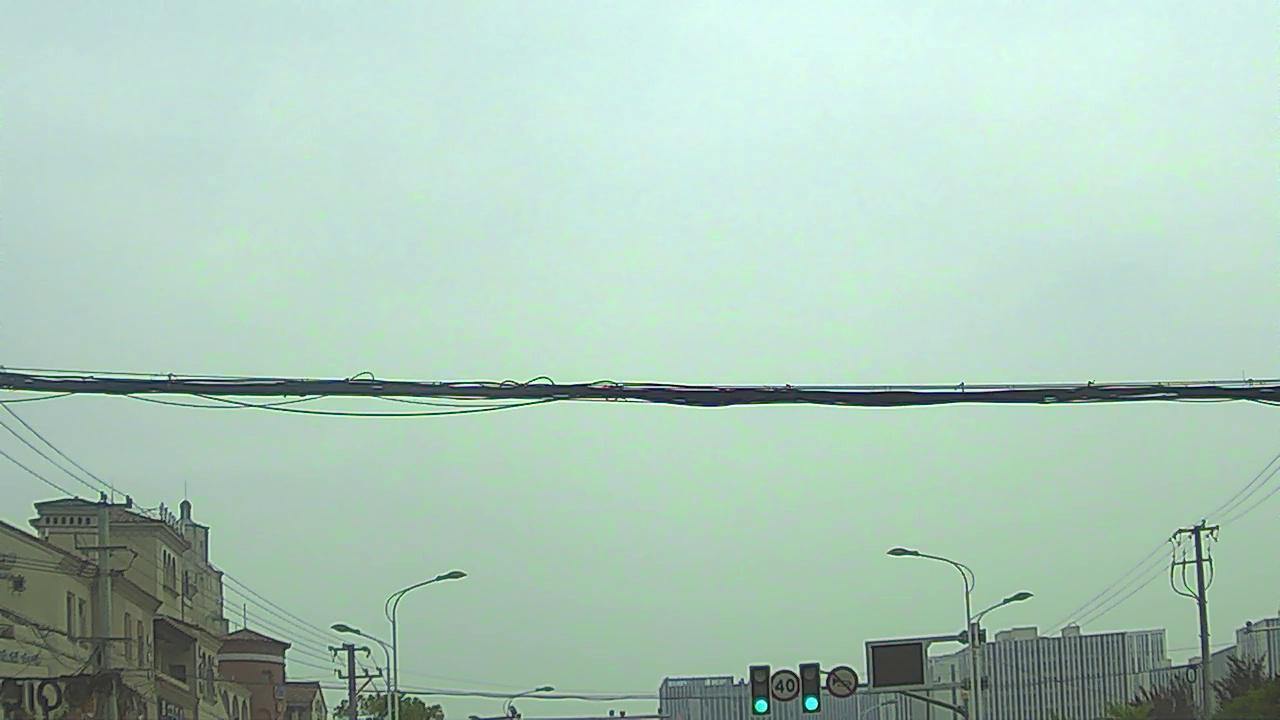traffic_light: (801, 663, 822, 716), (750, 666, 770, 716)
